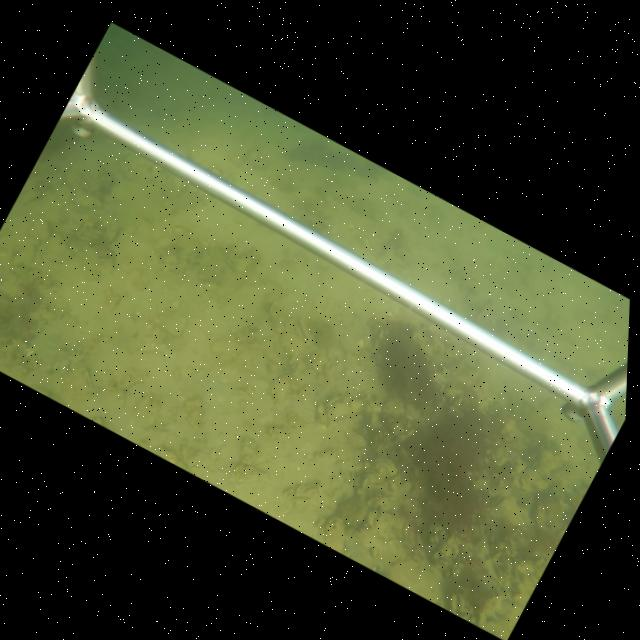Oyster-Closed: (323, 396, 363, 424)
